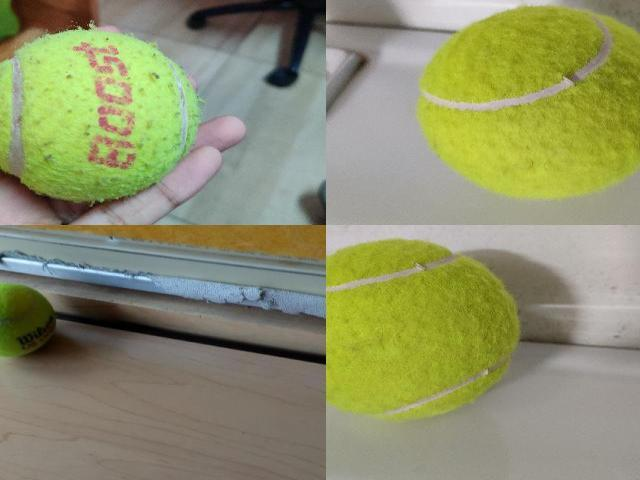tennis-ball: (413, 1, 639, 204), (326, 237, 521, 421), (0, 30, 199, 200), (0, 282, 58, 358)
